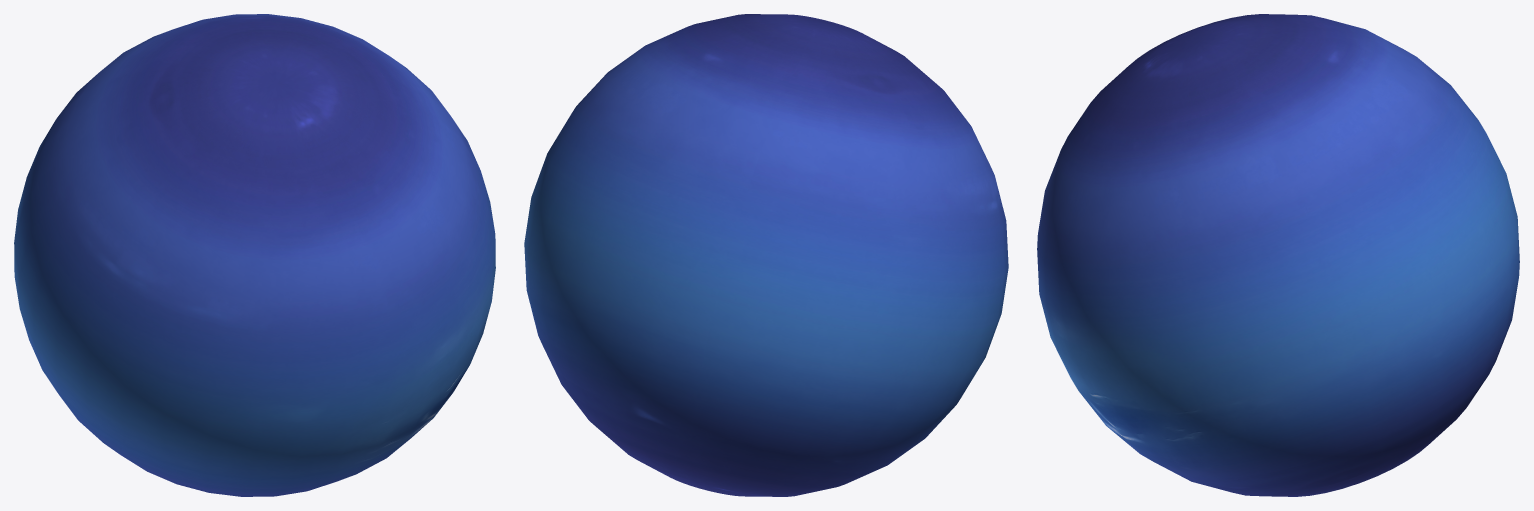
File: neptune.obj
3 views of the same model, side by side, from view 1: azimuth 30°, elevation 25°; view 2: azimuth 150°, elevation 25°; view 3: azimuth 270°, elevation 25° (orthographic).
Parts seen in each view (by area): view 1: Neptune.005; view 2: Neptune.005; view 3: Neptune.005.
Boxes of the visible parts, bbox=[...] form: Neptune.005: bbox=[14, 14, 495, 496]; Neptune.005: bbox=[524, 14, 1008, 496]; Neptune.005: bbox=[1037, 14, 1519, 496].
Size of the model in its own units: 1.65 by 1.66 by 1.66.
